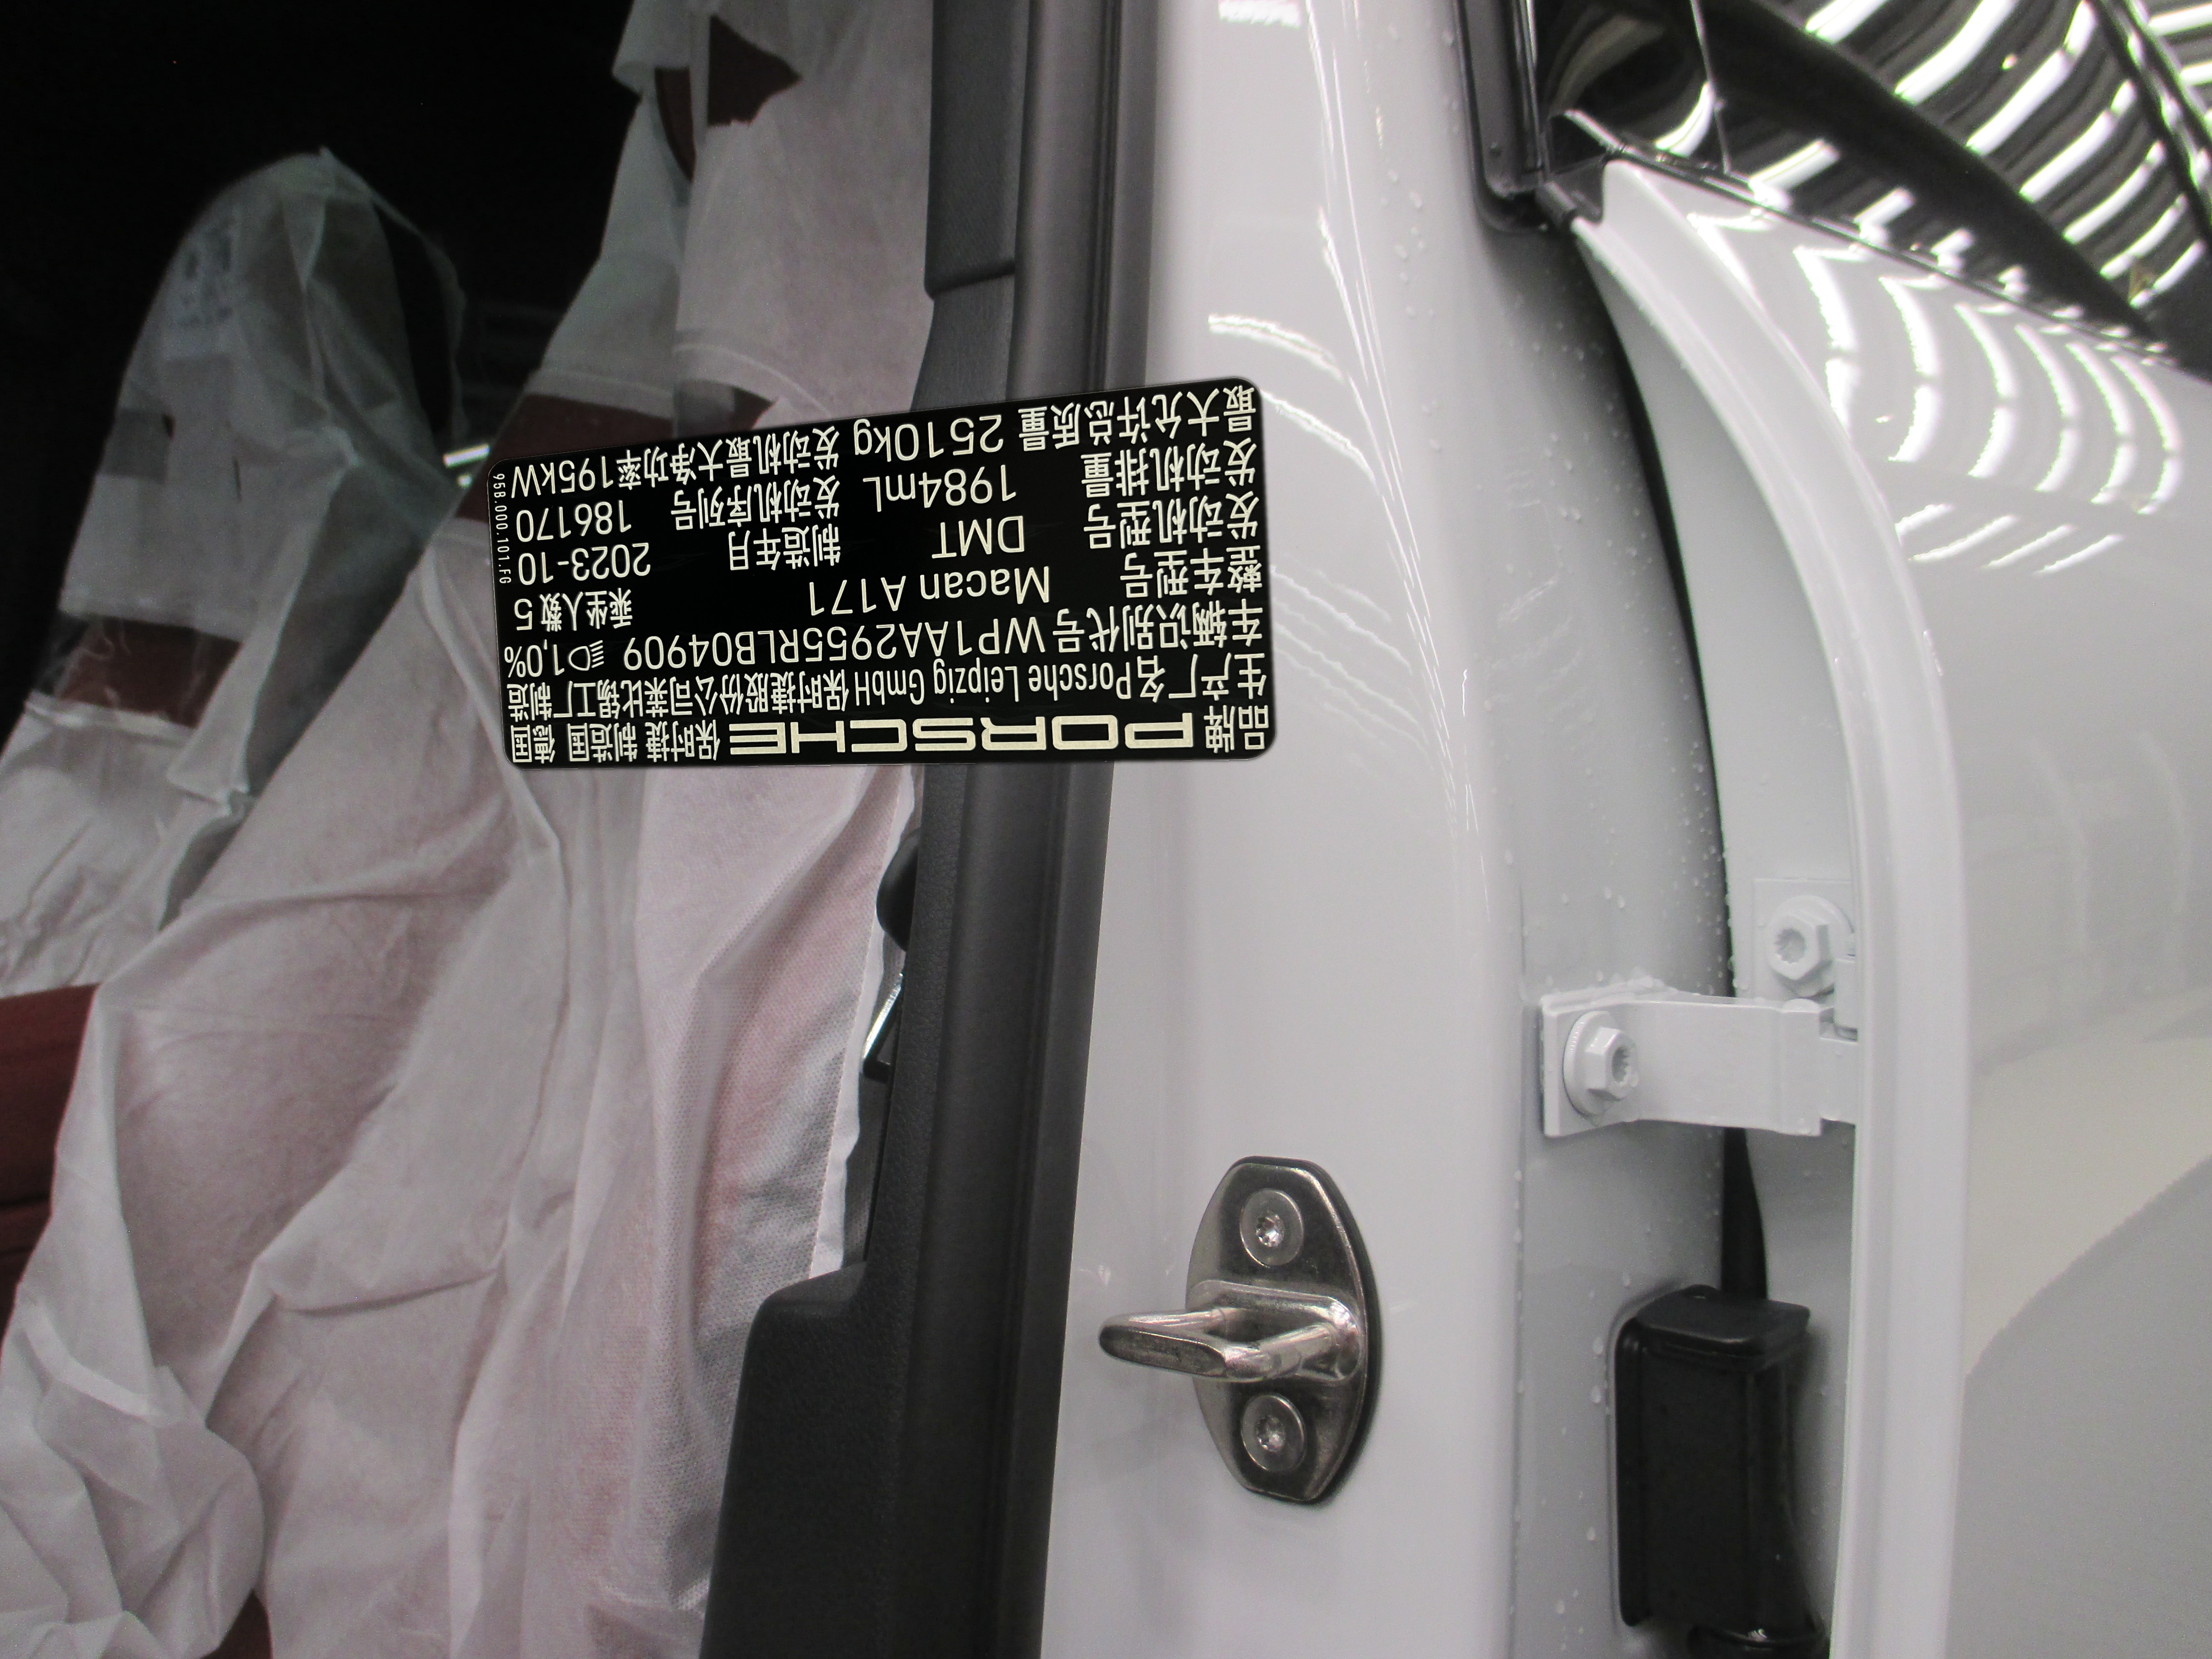Typlabel-China: (486, 378, 1275, 769)
